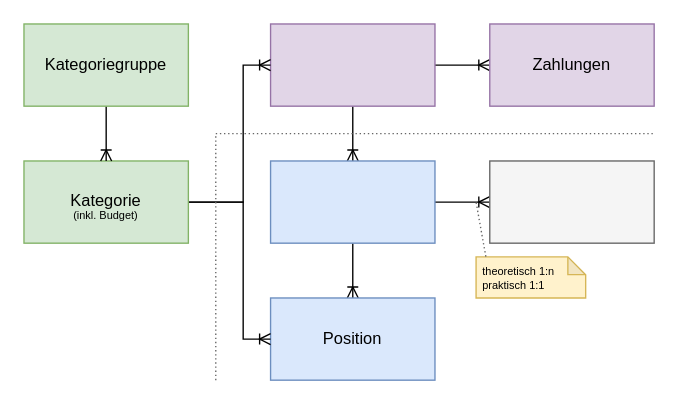
The diagram is 680 pixels wide and 406 high, and some of its shapes have lost their labels. The centre of each missing label's shape, as x and y in pixels:
(Einzigartige) Umsätze: [352,201]
Importierte Umsätze: [571,201]
Wiederkehrende Umsätze: [352,64]
